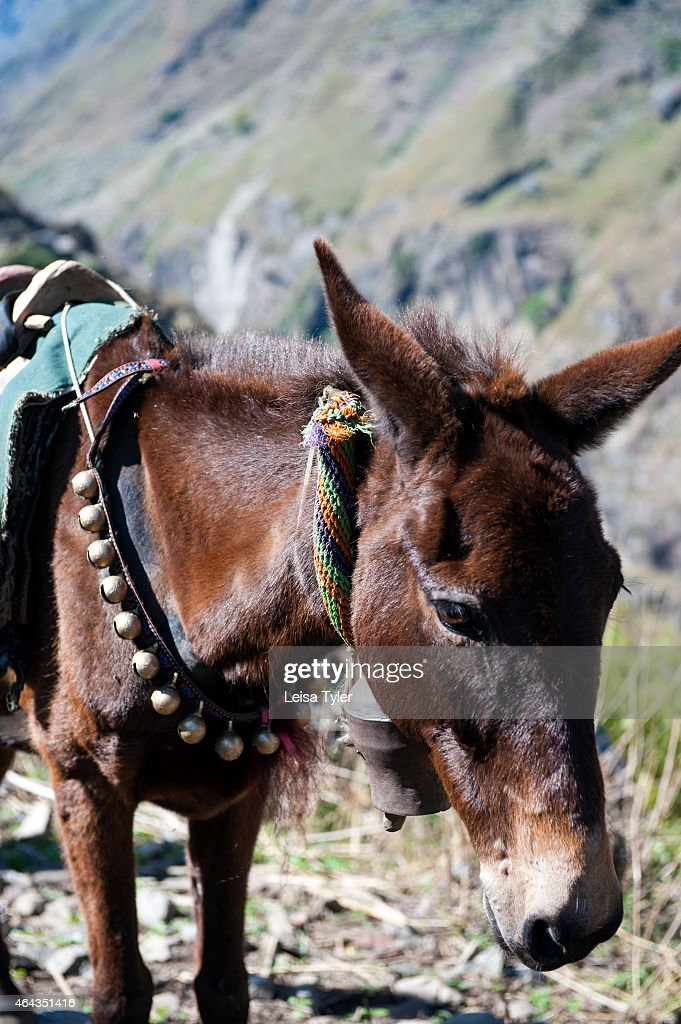equine: (1, 254, 676, 1024)
